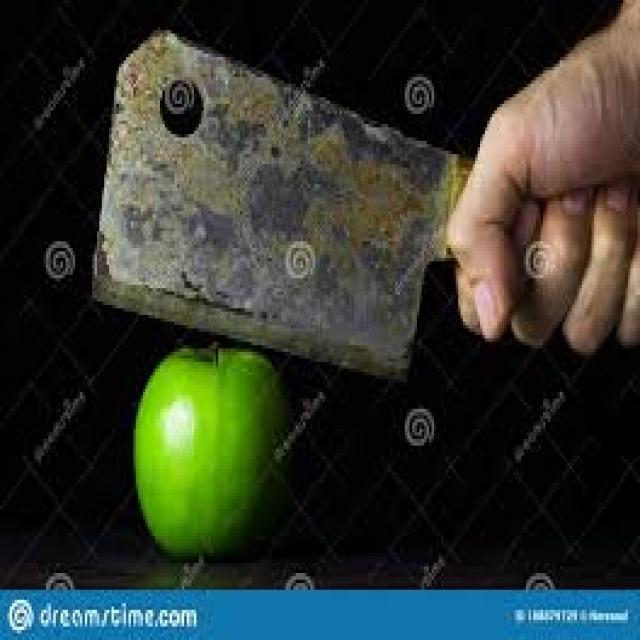Fresh Apple: (132, 352, 293, 555)
